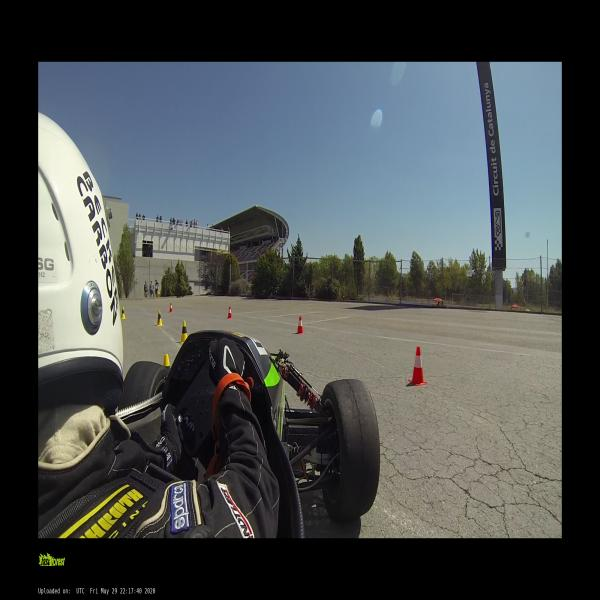blue_cone: (185, 219, 188, 224)
orange_cone: (408, 347, 428, 386), (296, 316, 304, 334), (228, 306, 232, 319), (168, 303, 173, 312)
yellow_cone: (180, 321, 188, 342), (162, 353, 170, 374), (157, 310, 163, 326), (121, 306, 126, 319)
